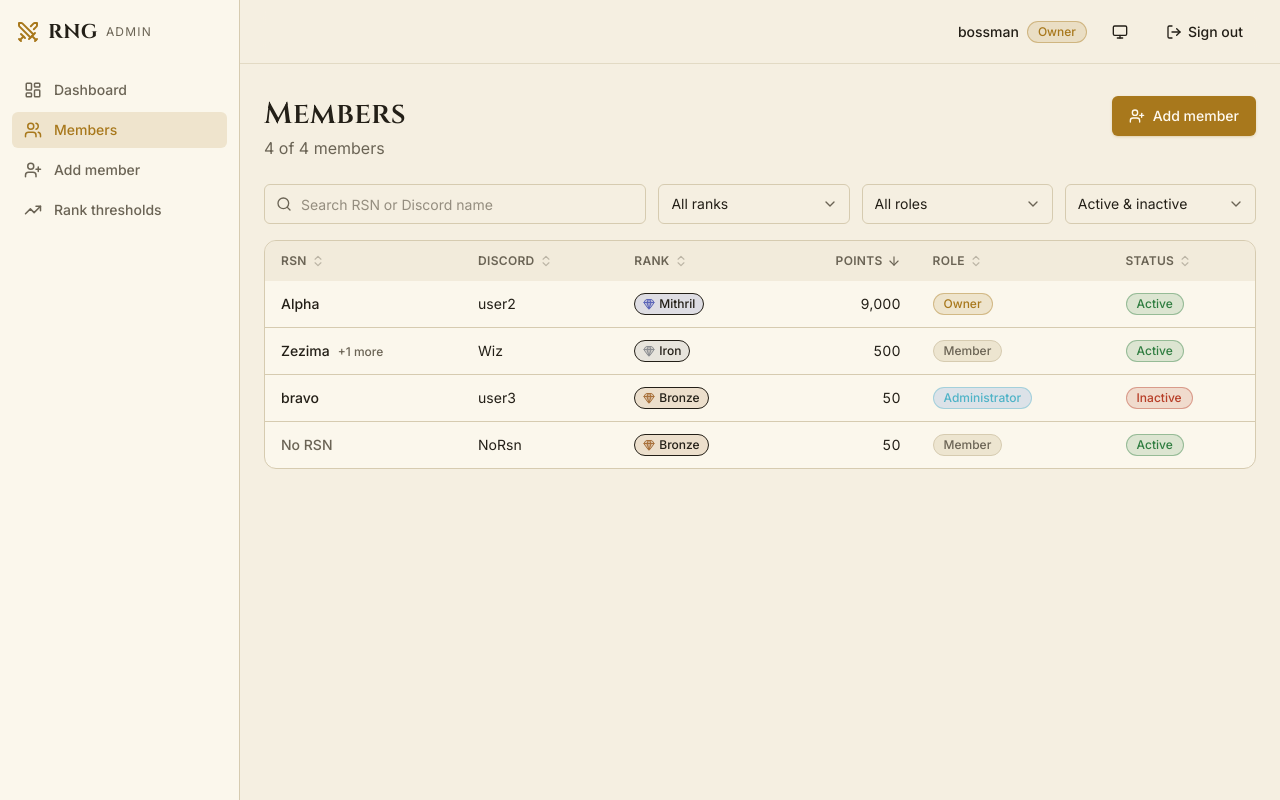
Test: admin shell › falls back to previous-RSN matches on Enter when nothing matches locally
Type "Ancient Name" into the search field named "Search members" at (455, 204), box [264,184,646,224]
Then press Enter
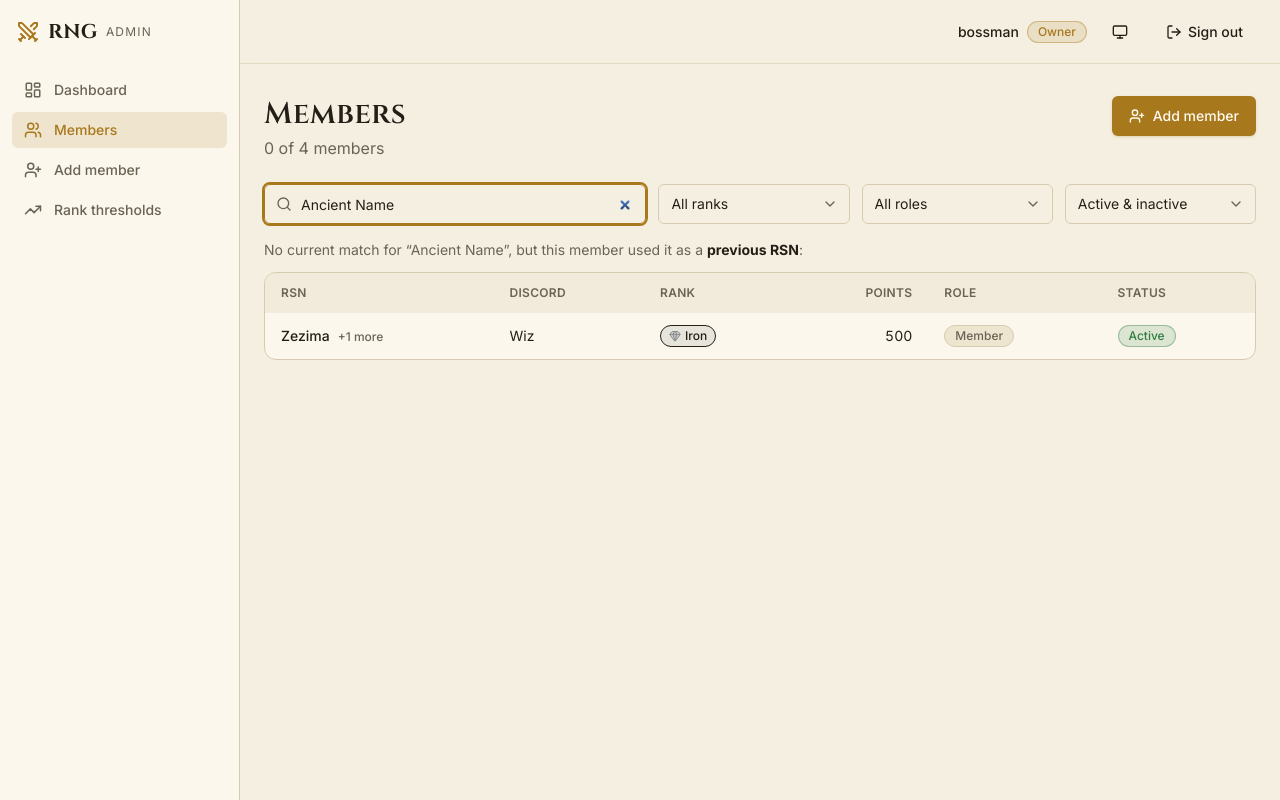
Expected: the link "Zezima" is shown, [281,327,330,344]
Now the text "previous RSN" is shown, box [707,241,799,258]
